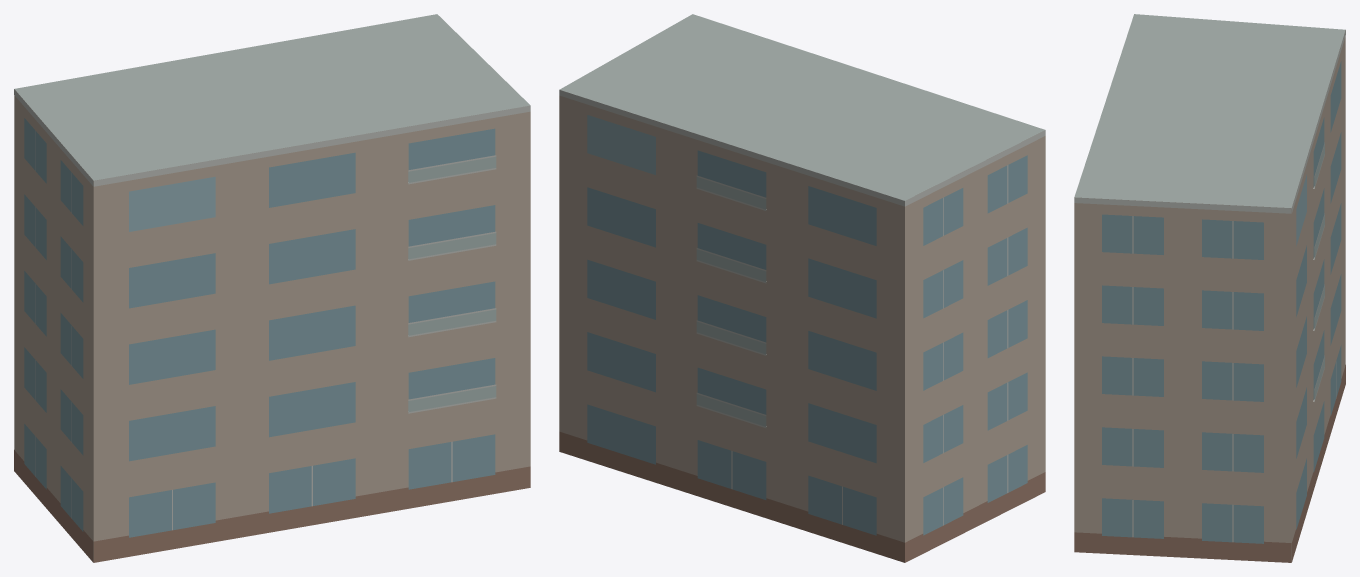
The model's file is survey-upis-32574358.glb.
3 renders of one model, left to right at view 1: azimuth 30°, elevation 25°; view 2: azimuth 150°, elevation 25°; view 3: azimuth 270°, elevation 25°, orthographic. The views are drawn at different scales.
Visible parts, largest first — view 1: survey-upis-32574358.tmp; view 2: survey-upis-32574358.tmp; view 3: survey-upis-32574358.tmp.
Boxes of the visible parts, x1,y1,x2,y2 form: survey-upis-32574358.tmp: [14, 14, 530, 562]; survey-upis-32574358.tmp: [559, 14, 1045, 562]; survey-upis-32574358.tmp: [1074, 14, 1345, 562].
Size of the model in its own units: 18.09 by 15.4 by 10.69.
